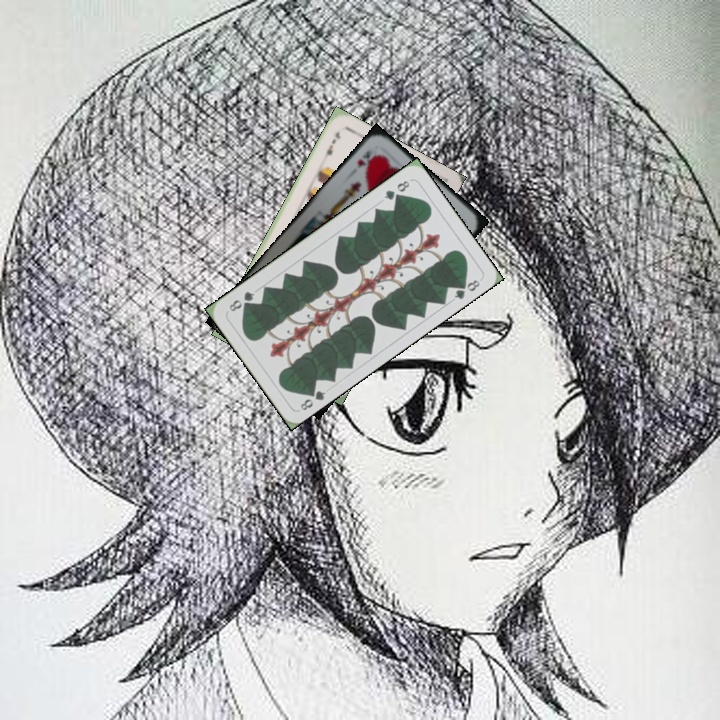E7: (318, 127, 343, 163)
G8: (296, 383, 328, 414), (380, 176, 413, 203)
HK: (353, 145, 379, 172)
